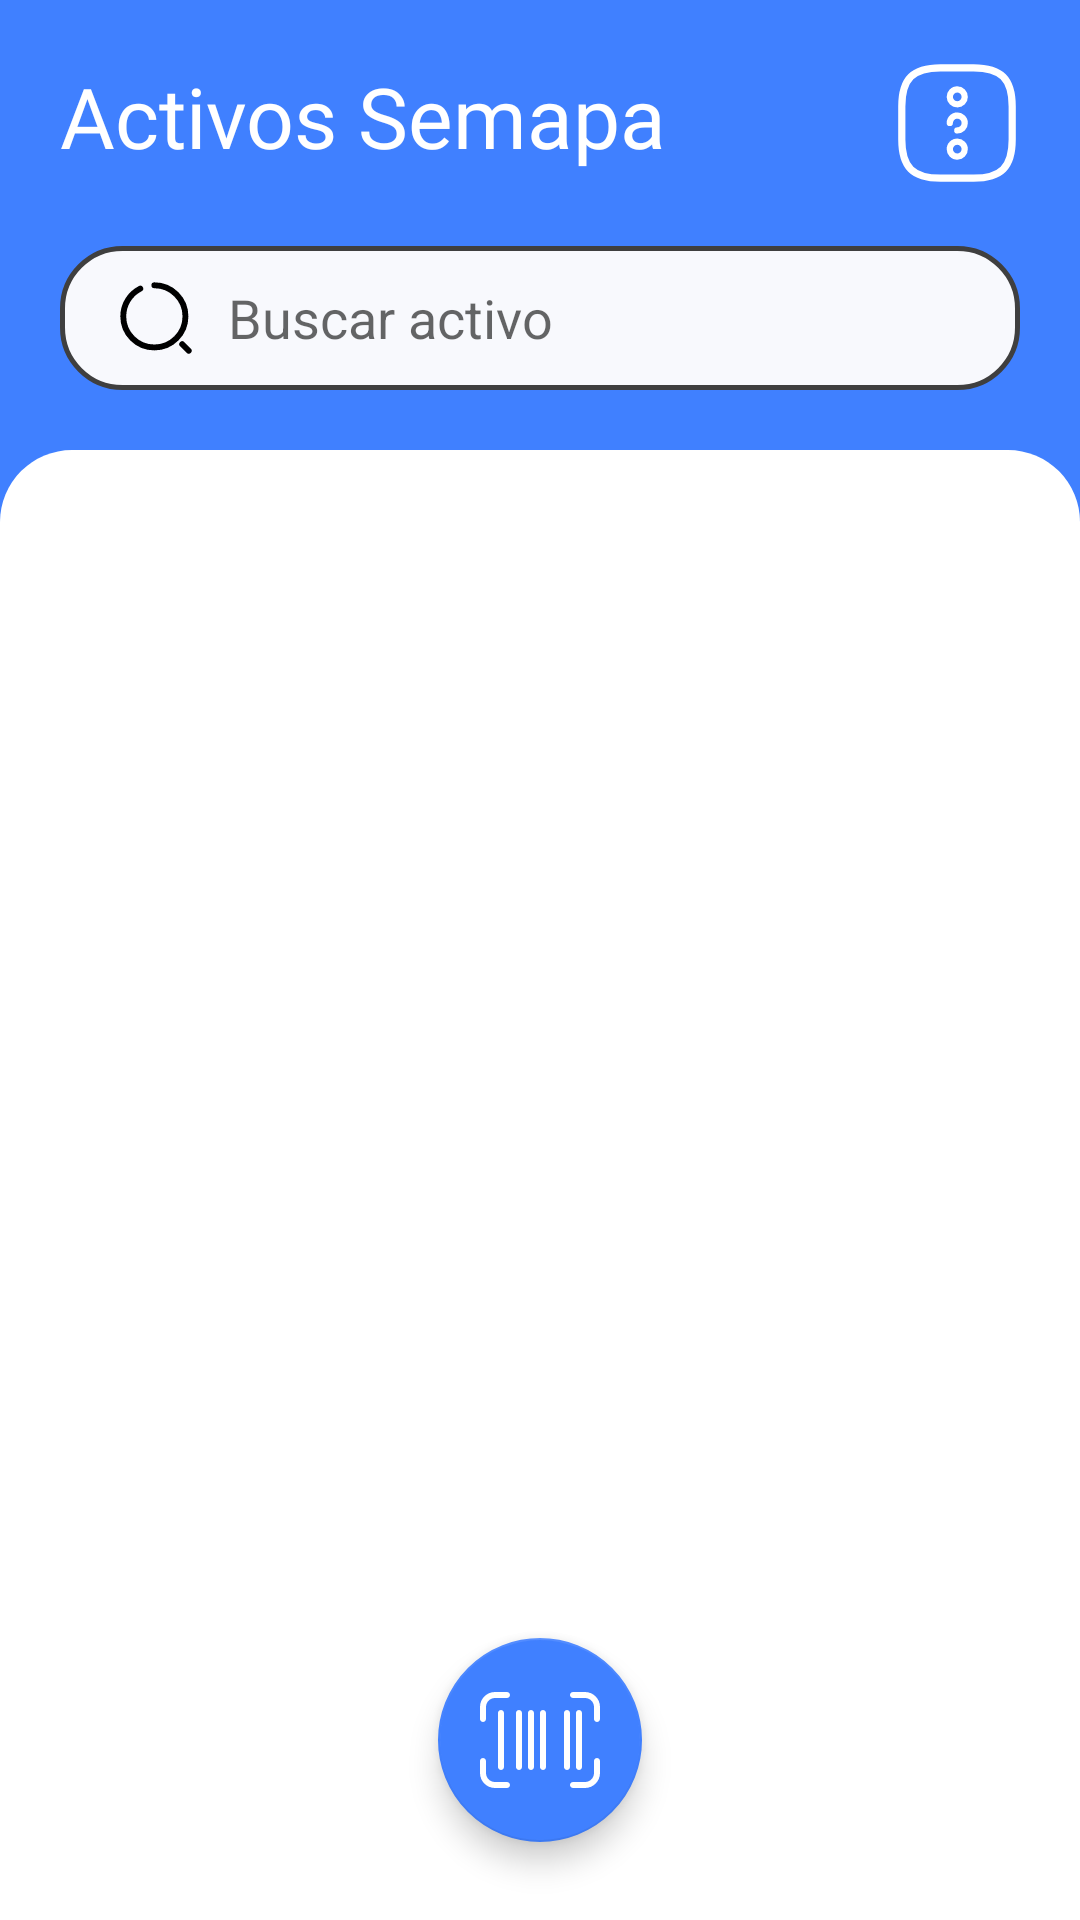

Named icons in this screenshot (1080x1920) and their bounding boxes, (x1, y1, x2, y2):
Opciones: (898, 64, 1016, 182)
